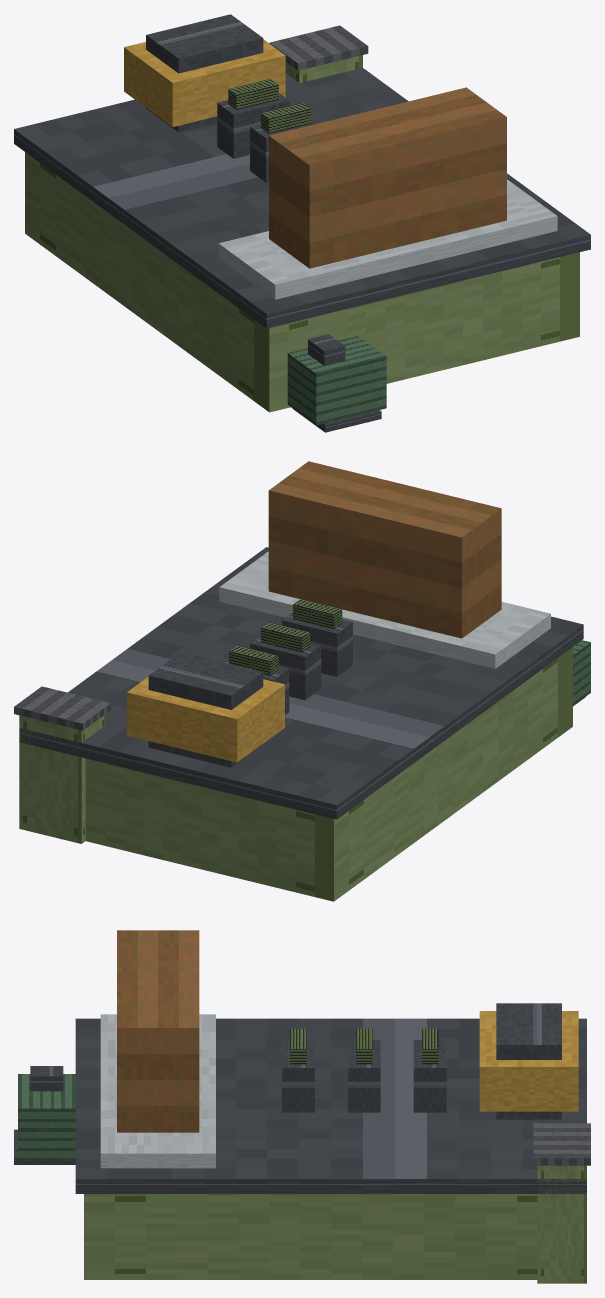
Rendered from wire_drawer.obj.
3 renders of one model, top to bottom at view 1: azimuth 30°, elevation 25°; view 2: azimuth 150°, elevation 25°; view 3: azimuth 270°, elevation 25°, orthographic. The views are drawn at different scales.
Parts seen in each view (by area): view 1: bench, bench_top, spool, take_up_frame, payoff_coil, motor, payoff, cab_roof, die0, die_cool0, die_cool1, die1 (+3 smaller); view 2: bench_top, bench, spool, take_up_frame, payoff_coil, cabinet, payoff, cab_roof, die1, die2, die_cool1, die_cool2 (+2 smaller); view 3: bench_top, bench, spool, take_up_frame, payoff_coil, cabinet, motor, payoff, cab_roof, die0, die1, die2 (+4 smaller).
Part boxes in pixels (box(x1,y1,x2,y2)): bench: box(25, 152, 579, 412); bench_top: box(14, 68, 590, 328); spool: box(269, 87, 506, 268); take_up_frame: box(218, 179, 557, 299); payoff_coil: box(124, 39, 285, 126); motor: box(287, 336, 386, 425); payoff: box(146, 14, 263, 132); cab_roof: box(269, 25, 368, 70); die0: box(217, 93, 289, 158); die_cool0: box(228, 79, 278, 109); die_cool1: box(261, 103, 311, 133); die1: box(250, 117, 319, 182); bench_top: box(19, 547, 583, 819); bench: box(85, 647, 572, 901); spool: box(268, 461, 501, 638); take_up_frame: box(219, 551, 550, 668); payoff_coil: box(127, 677, 284, 762); cabinet: box(19, 715, 105, 843); payoff: box(148, 652, 263, 767); cab_roof: box(14, 686, 110, 730); die1: box(250, 636, 321, 700); die2: box(282, 612, 352, 676); die_cool1: box(261, 622, 310, 652); die_cool2: box(293, 599, 342, 628); bench_top: box(75, 1018, 586, 1193); bench: box(84, 1194, 537, 1279); spool: box(117, 930, 199, 1132); take_up_frame: box(100, 1014, 215, 1168); payoff_coil: box(479, 1011, 578, 1111); cabinet: box(537, 1165, 586, 1283); motor: box(18, 1074, 75, 1160); payoff: box(496, 1003, 561, 1119); cab_roof: box(533, 1123, 590, 1165); die0: box(413, 1040, 446, 1112); die1: box(348, 1040, 380, 1112); die2: box(282, 1040, 314, 1112).
Bounding box in the file's own units: 2.91 × 1.88 × 4.38.
